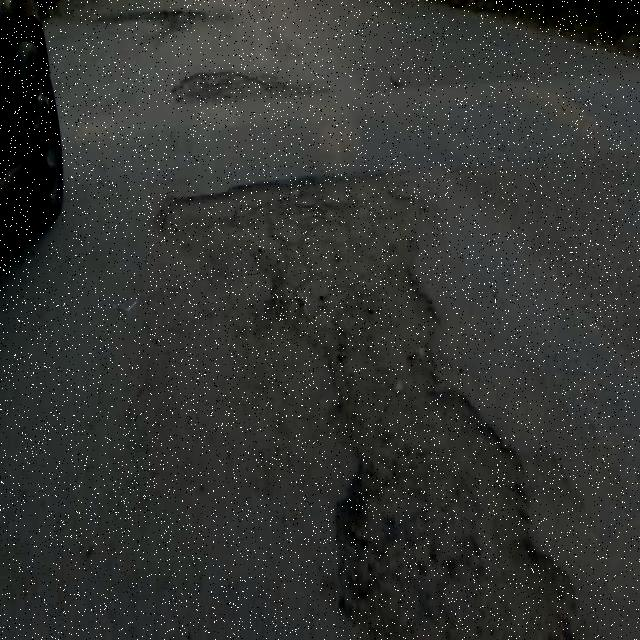pothole: (162, 177, 574, 640), (174, 70, 323, 106)
